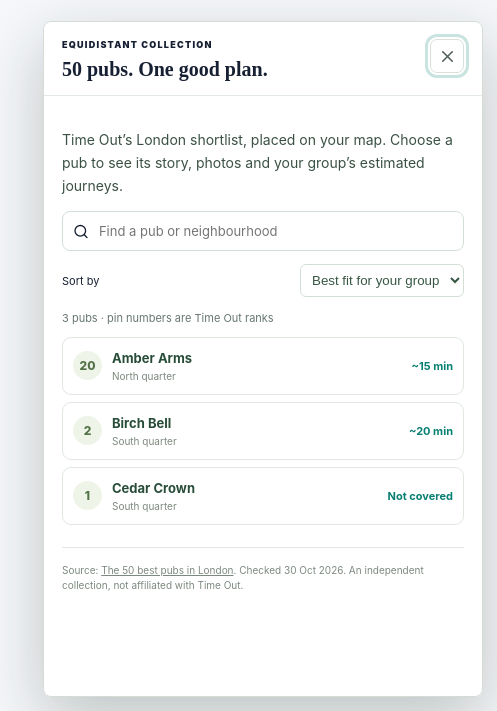
it: 50 pubs drawer › searches names, neighbourhoods and addresses case-insensitively and reports empty results
The image size is (497, 711).
Type "AMBER" into the field named "Search the 50 pubs" at (275, 231), box [97,222,453,240]
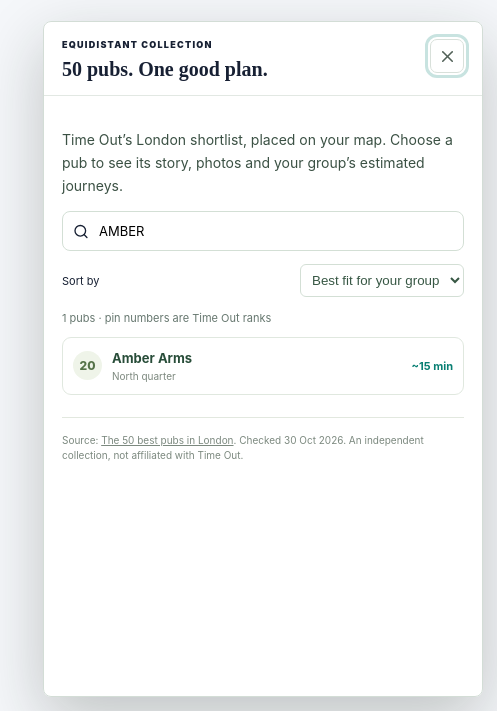
expect the button "20 Amber Arms North quarter ~15 min" is shown: met, box [62,337,464,395]
expect the button "Birch Bell" is gone: met
Replace the text in the field named "Search the 50 pubs" with "south quarter" at (275, 231), box [97,222,453,240]
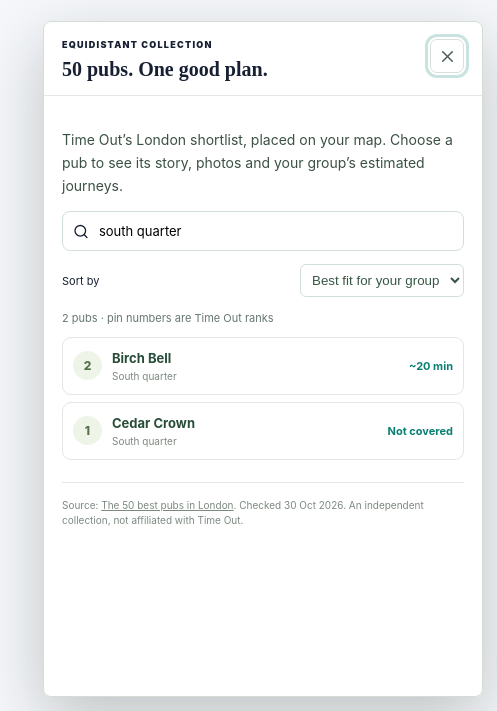
expect the button "2 Birch Bell South quarter ~20 min" is shown: met, box [62,337,464,395]
expect the button "Amber Arms" is gone: met
Replace the text in the field named "Search the 50 pubs" with "20 Test Road" at (275, 231), box [97,222,453,240]
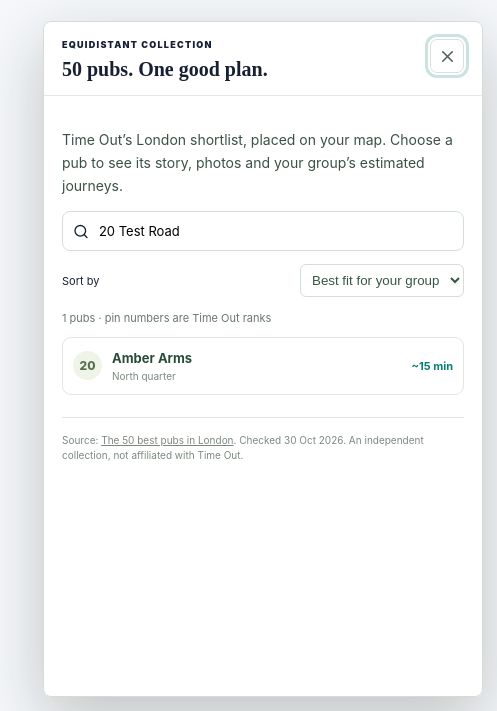
expect the button "20 Amber Arms North quarter ~15 min" is shown: met, box [62,337,464,395]
Replace the text in the field named "Search the 50 pubs" with "not a pub" at (275, 231), box [97,222,453,240]
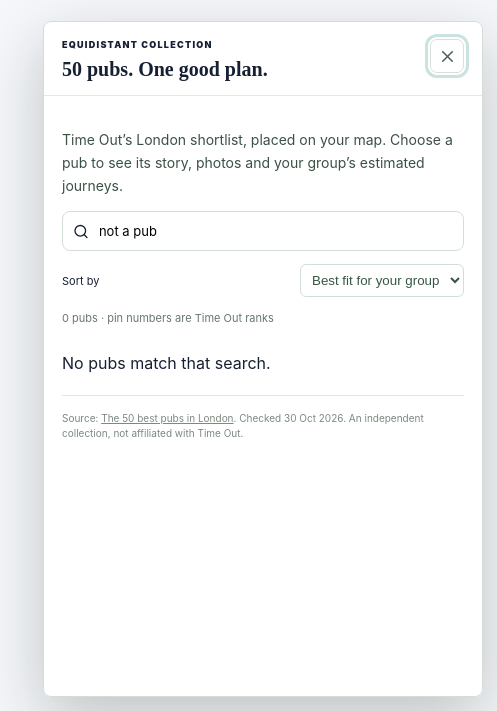
expect the text "No pubs match that search." is shown: met, box [62,353,271,373]
